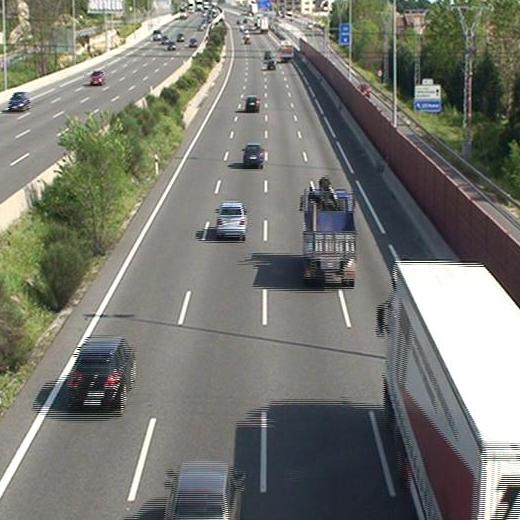car: (67, 340, 134, 411), (216, 202, 247, 237), (242, 144, 263, 166), (245, 95, 261, 112), (266, 59, 276, 70)
small-truck: (300, 189, 356, 283), (280, 39, 294, 60)
truck: (381, 261, 520, 520)
